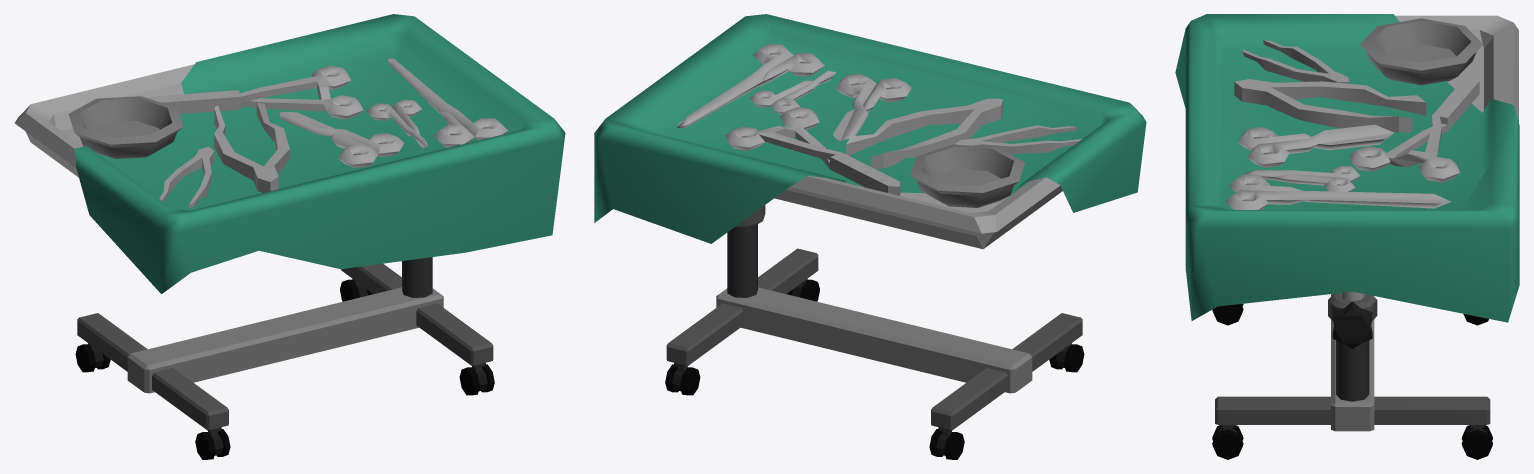
The model's file is Instrument Table 02.fbx.
The picture shows the model from 3 angles, left to right: view 1: azimuth 30°, elevation 25°; view 2: azimuth 150°, elevation 25°; view 3: azimuth 270°, elevation 25°; orthographic projection. The views are drawn at different scales.
Visible parts, largest first — view 1: Instrument_Table_02; view 2: Instrument_Table_02; view 3: Instrument_Table_02.
Part boxes in pixels (box(x1,y1,x2,y2)): Instrument_Table_02: box(15, 14, 565, 459); Instrument_Table_02: box(594, 14, 1146, 459); Instrument_Table_02: box(1175, 14, 1519, 459).
Bounding box in the file's own units: 127 × 81.19 × 89.74.
